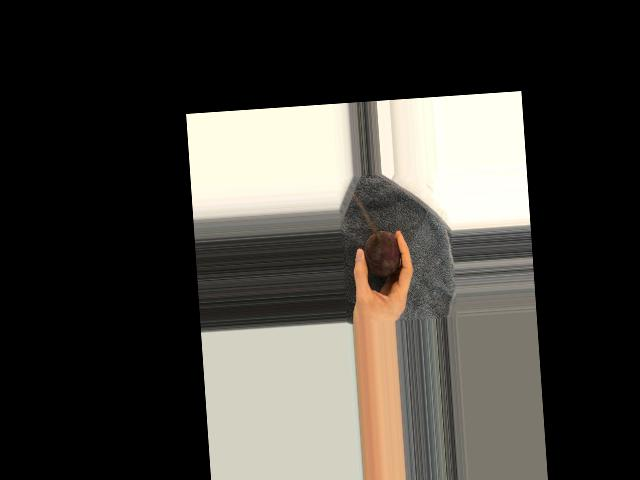beet: (362, 230, 401, 278)
